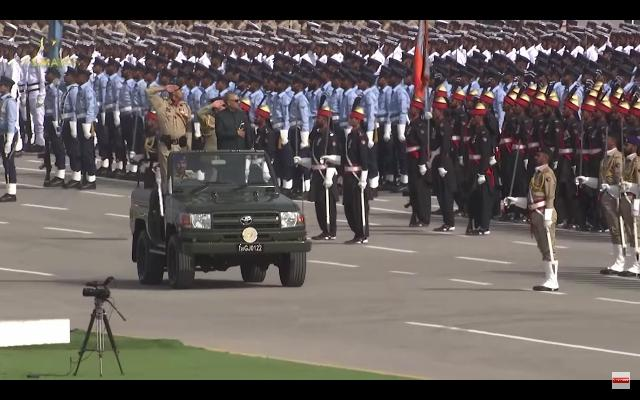plate: (236, 244, 264, 252)
